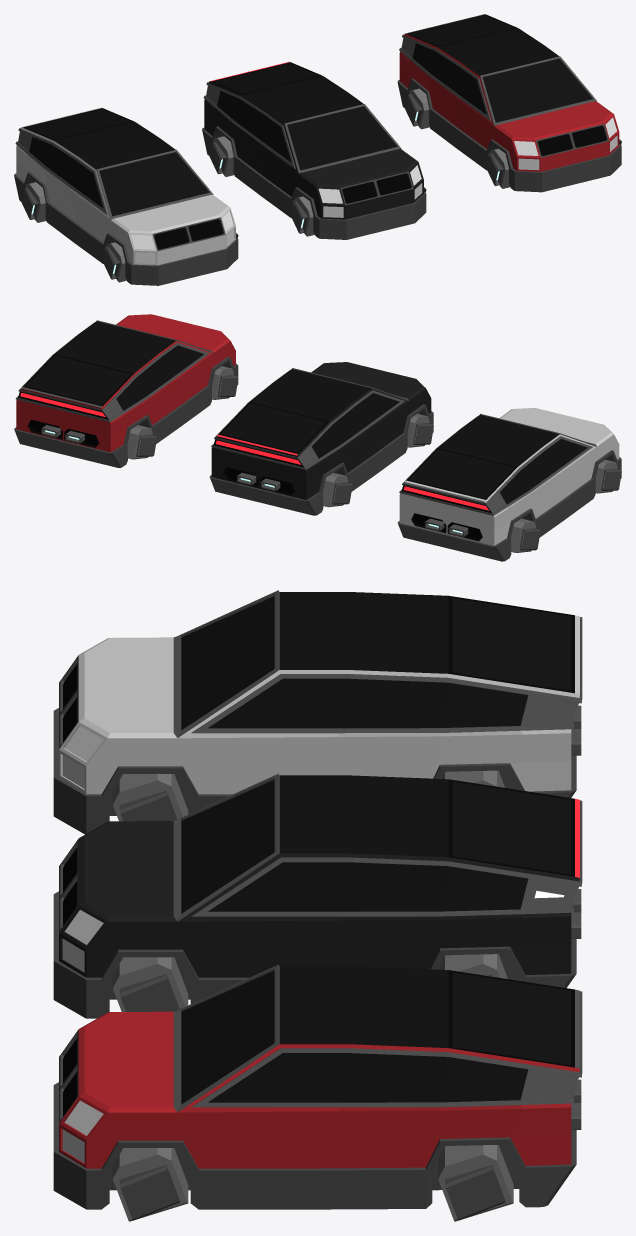
The model's file is Car.fbx.
3 views of the same model, one above another, from view 1: azimuth 30°, elevation 25°; view 2: azimuth 150°, elevation 25°; view 3: azimuth 270°, elevation 25° (orthographic). The views are drawn at different scales.
Visible parts, largest first — view 1: Cube.002, Cube.003, Cube.001; view 2: Cube.001, Cube.002, Cube.003; view 3: Cube.003, Cube.002, Cube.001.
Boxes of the visible parts, x1,y1,x2,y2 form: Cube.002: (202, 61, 426, 239); Cube.003: (397, 14, 621, 192); Cube.001: (14, 107, 238, 285); Cube.001: (397, 408, 621, 561); Cube.002: (209, 362, 433, 515); Cube.003: (14, 314, 238, 467); Cube.003: (53, 964, 582, 1221); Cube.002: (53, 773, 582, 1018); Cube.001: (53, 590, 582, 834).
Size of the model in its own units: 15 by 2.32 by 6.76.
